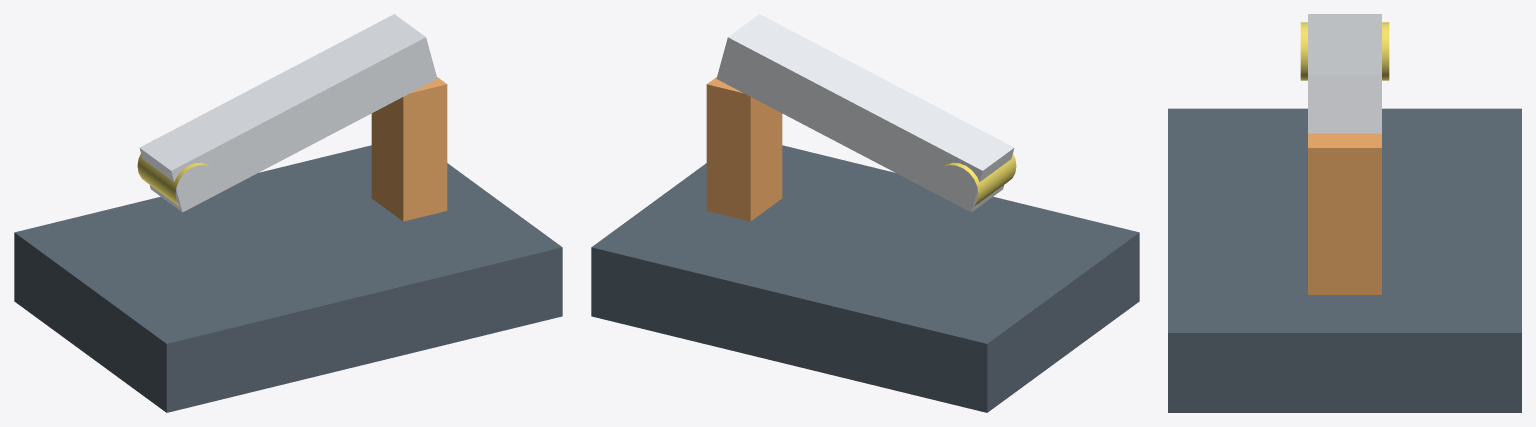
The model's file is sine_bar_slip_gauges.glb.
The picture shows the model from 3 angles, left to right: view 1: azimuth 30°, elevation 25°; view 2: azimuth 150°, elevation 25°; view 3: azimuth 270°, elevation 25°; orthographic projection. The views are drawn at different scales.
Visible parts, largest first — view 1: GraniteSurfacePlateDatum, HardenedSteelSineBarBody, WringedSlipGaugeBlockStack, SineBarCylindricalRoller; view 2: GraniteSurfacePlateDatum, HardenedSteelSineBarBody, WringedSlipGaugeBlockStack, SineBarCylindricalRoller; view 3: GraniteSurfacePlateDatum, WringedSlipGaugeBlockStack, HardenedSteelSineBarBody, SineBarCylindricalRoller.
Boxes of the visible parts, x1,y1,x2,y2 form: GraniteSurfacePlateDatum: (14,145,562,412); HardenedSteelSineBarBody: (139,14,437,212); WringedSlipGaugeBlockStack: (371,77,447,221); SineBarCylindricalRoller: (137,140,209,207); GraniteSurfacePlateDatum: (591,145,1139,412); HardenedSteelSineBarBody: (716,14,1014,212); WringedSlipGaugeBlockStack: (706,77,782,221); SineBarCylindricalRoller: (944,140,1016,207); GraniteSurfacePlateDatum: (1168,108,1521,412); WringedSlipGaugeBlockStack: (1308,133,1381,294); HardenedSteelSineBarBody: (1308,14,1381,133); SineBarCylindricalRoller: (1300,22,1389,80).
Bounding box in the file's own units: 1.8 × 1.1 × 1.2.
